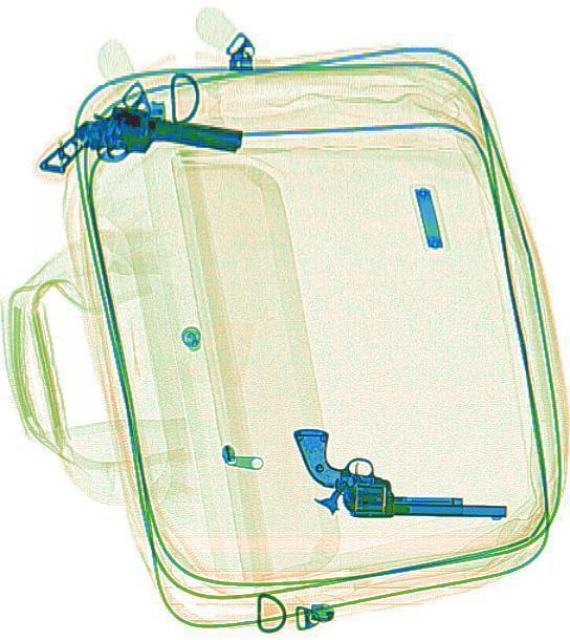Gun: (36, 91, 241, 205), (290, 428, 505, 518)
